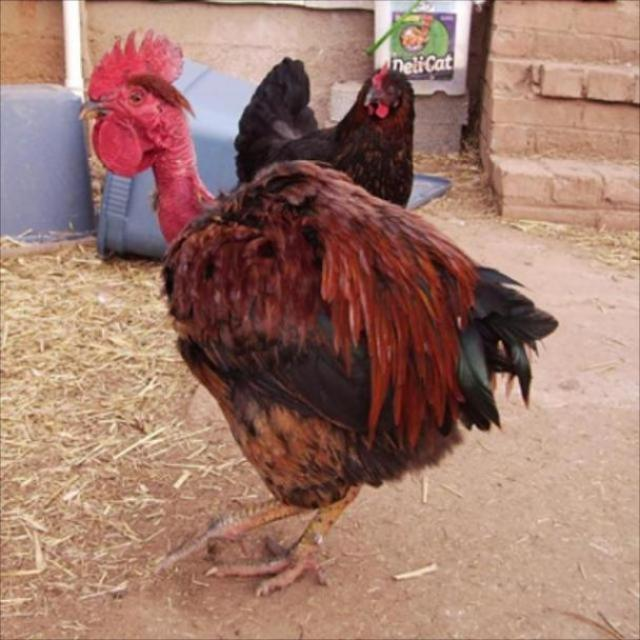Chicken: (90, 26, 561, 588), (227, 54, 420, 206)
